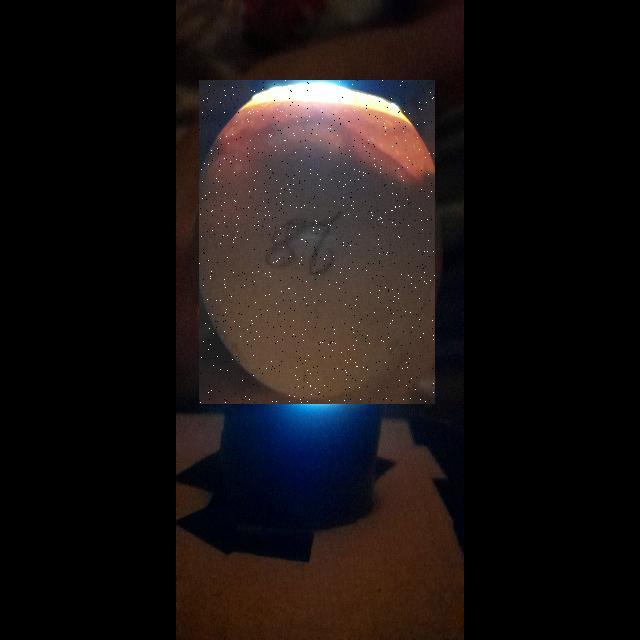Fertile: (199, 80, 435, 404)
